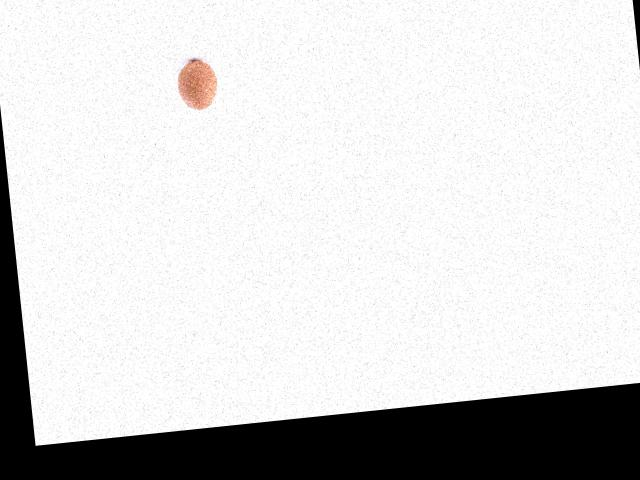egg: (174, 58, 219, 111)
